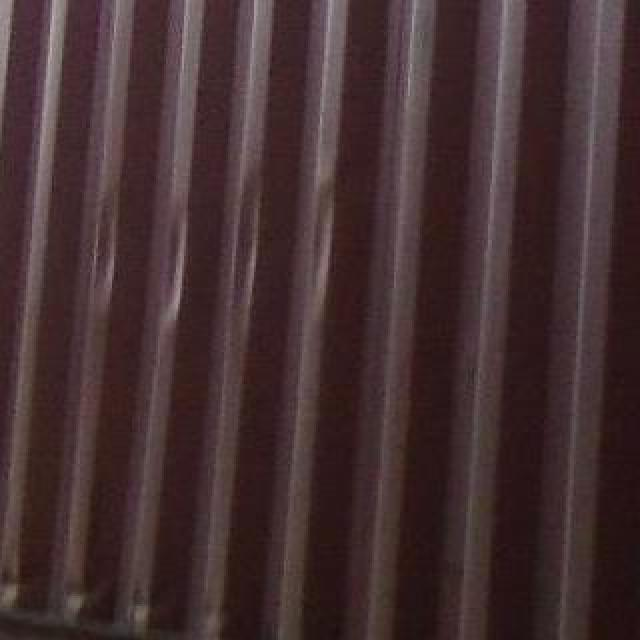dent: (81, 163, 353, 333), (117, 585, 165, 633), (3, 535, 29, 607), (57, 575, 91, 621), (195, 595, 233, 631)
